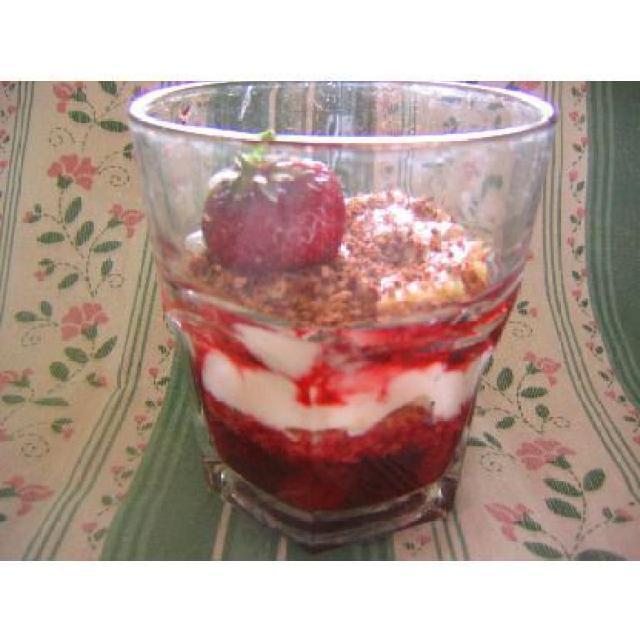Strawberry: (202, 150, 346, 272)
